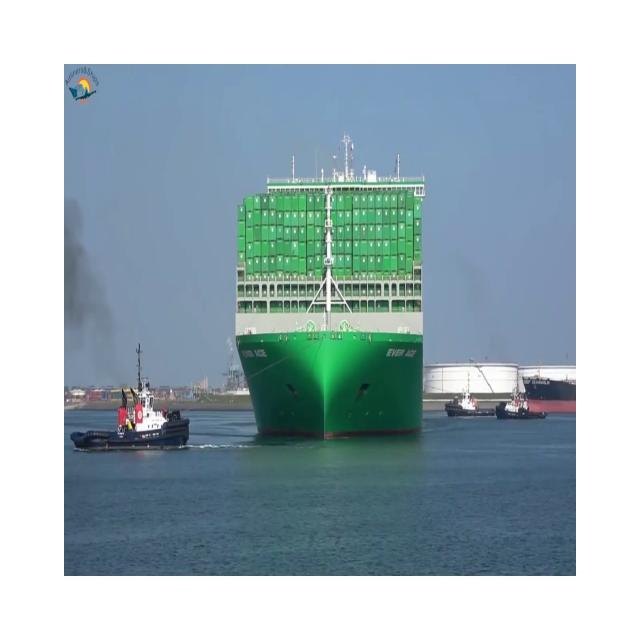OCR: (378, 336, 419, 369), (233, 339, 278, 366)
